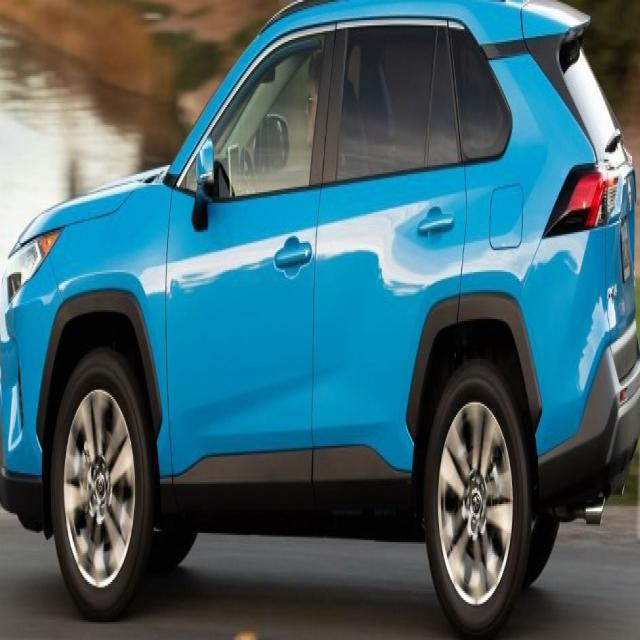blue: (5, 1, 640, 611)
